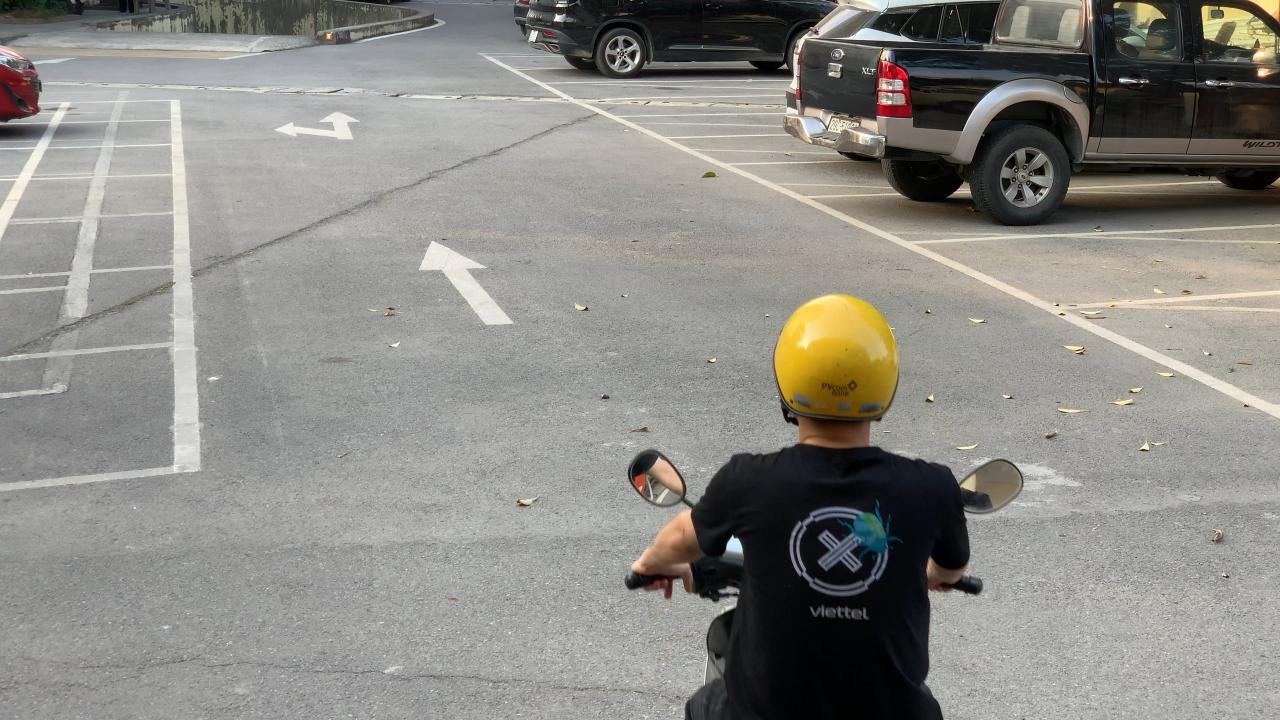helmet: (772, 293, 899, 428)
motorcyclist: (625, 290, 1029, 720)
